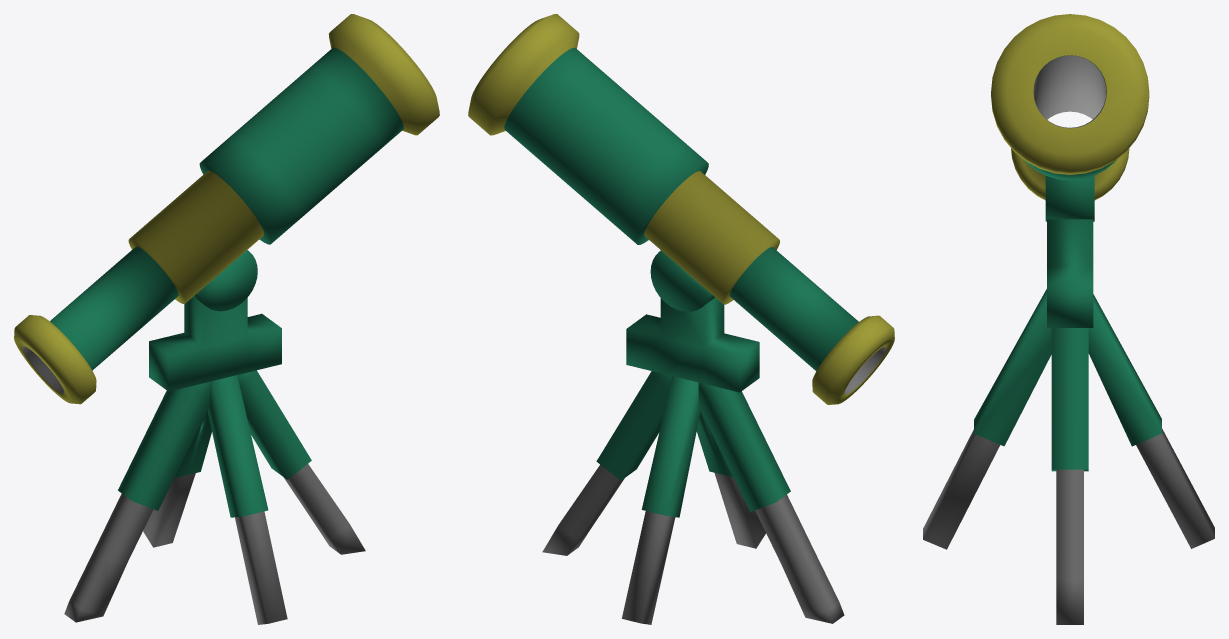
Rendered from Telescope.fbx.
The picture shows the model from 3 angles, left to right: view 1: azimuth 30°, elevation 25°; view 2: azimuth 150°, elevation 25°; view 3: azimuth 270°, elevation 25°; orthographic projection. The views are drawn at different scales.
Visible parts, largest first — view 1: Telescope; view 2: Telescope; view 3: Telescope.
Part boxes in pixels (x1,y1,x2,y2): Telescope: (14, 14, 439, 624); Telescope: (468, 14, 894, 624); Telescope: (923, 14, 1214, 624).
Size of the model in its own units: 113 by 142 by 61.06.
